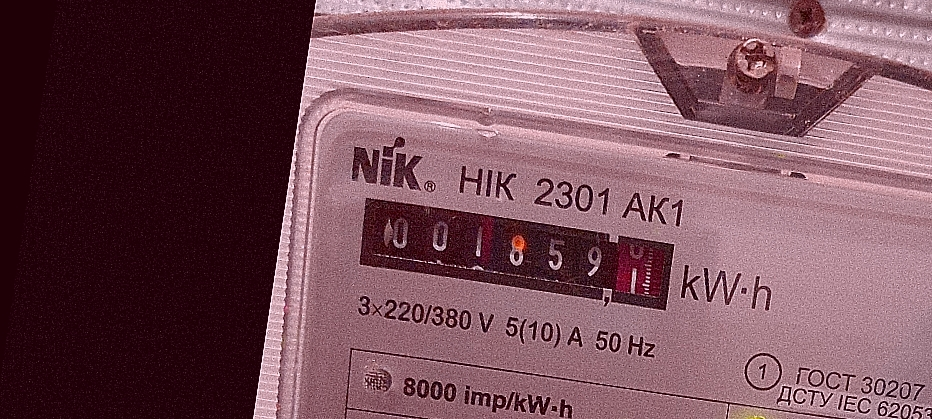0: (387, 213, 412, 251), (427, 217, 451, 253)
1: (470, 222, 486, 259), (624, 263, 641, 295)
5: (542, 234, 567, 272)
8: (504, 230, 529, 268)
9: (581, 242, 604, 279)
screen: (342, 183, 687, 322)
